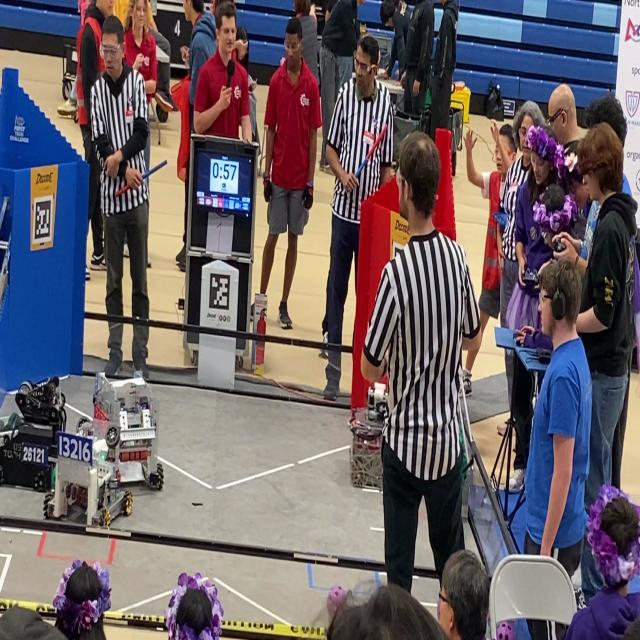artifact_purple: (327, 586, 348, 621), (495, 622, 516, 639)
